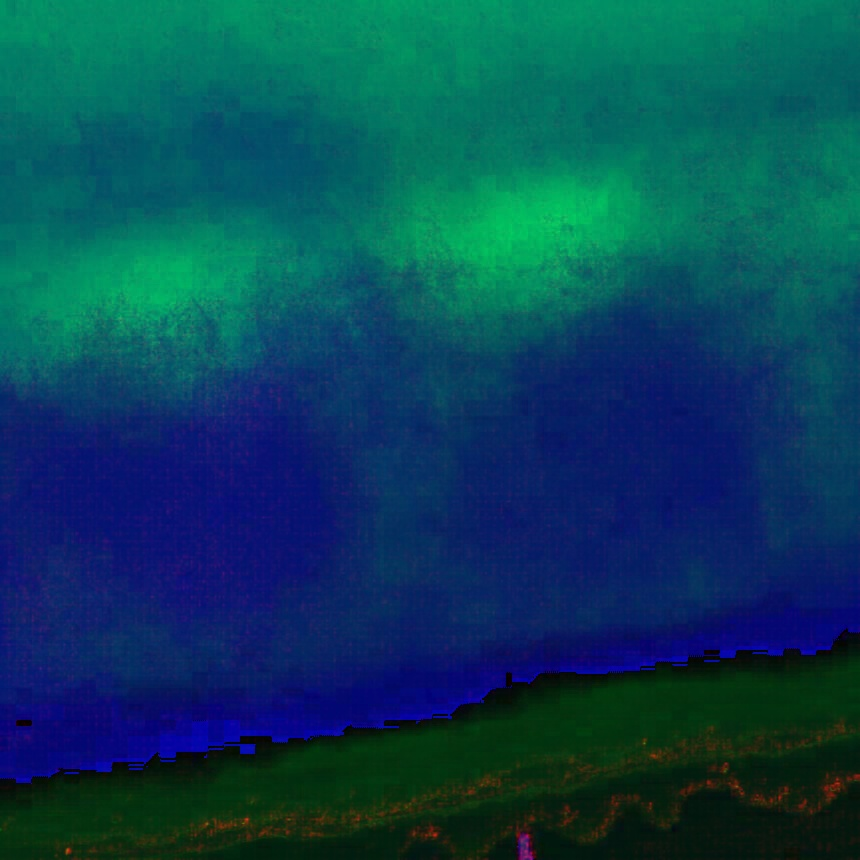rip_current: (298, 263, 536, 645)
